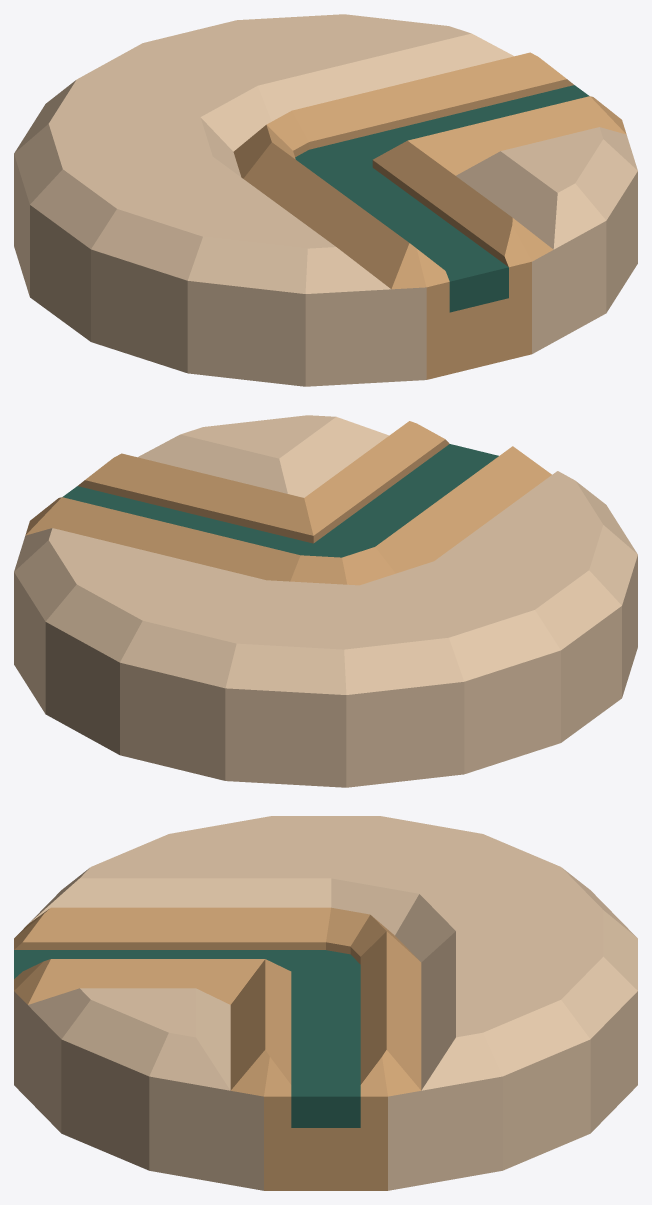
3 views of the same model, one above another, from view 1: azimuth 30°, elevation 25°; view 2: azimuth 150°, elevation 25°; view 3: azimuth 270°, elevation 25° (orthographic).
Visible parts, largest first — view 1: mergedBlocks(Clone); view 2: mergedBlocks(Clone); view 3: mergedBlocks(Clone).
Part boxes in pixels (box(x1,y1,x2,y2)): mergedBlocks(Clone): box(14, 14, 637, 386); mergedBlocks(Clone): box(14, 415, 637, 787); mergedBlocks(Clone): box(14, 816, 637, 1190).
Size of the model in its own units: 2.7 by 0.6 by 2.7.
